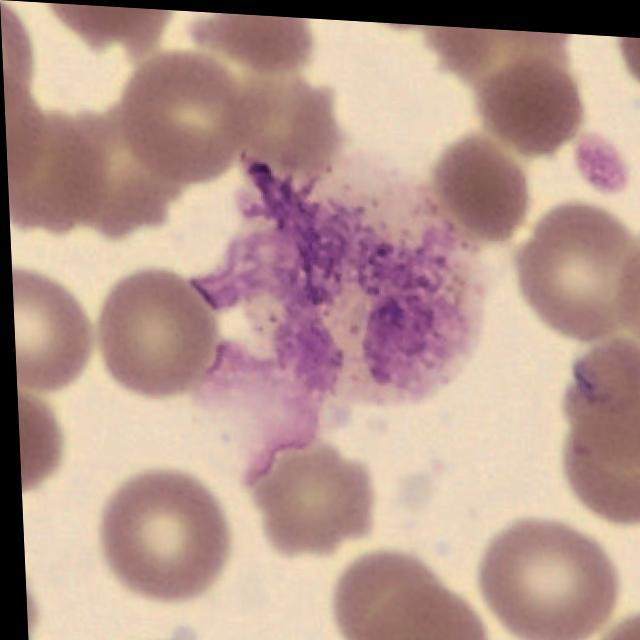Restos celulares: (112, 155, 484, 476)
